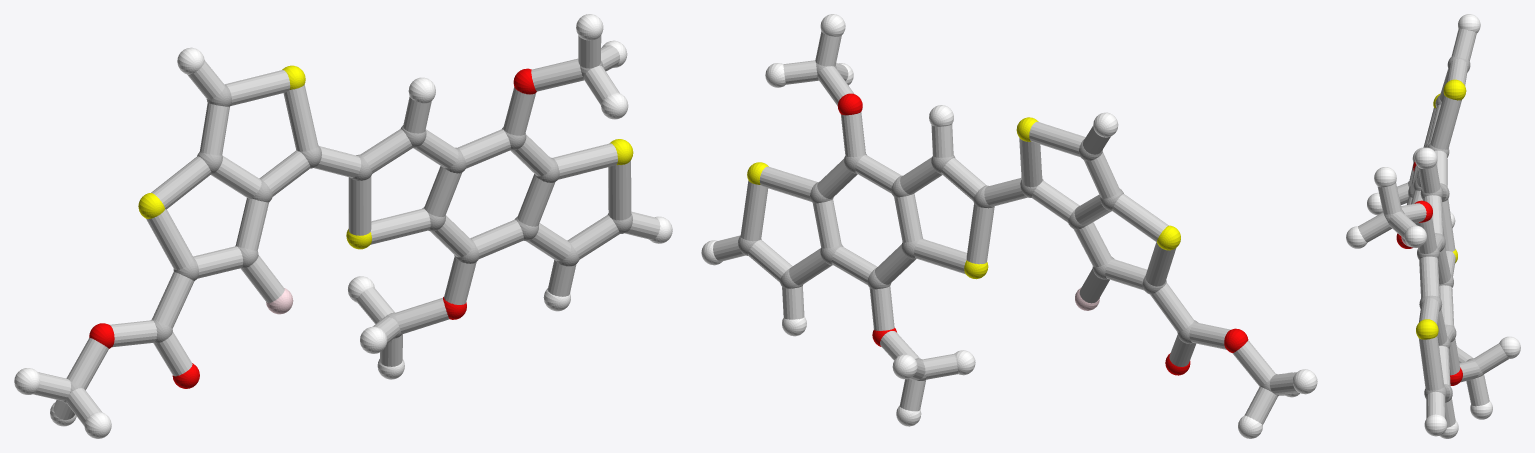
Rendered from color.glb.
The picture shows the model from 3 angles, left to right: view 1: azimuth 30°, elevation 25°; view 2: azimuth 150°, elevation 25°; view 3: azimuth 270°, elevation 25°; orthographic projection. The views are drawn at different scales.
Parts seen in each view (by area): view 1: grp15205, grp8689, grp1, grp13395, grp7241; view 2: grp15205, grp8689, grp1, grp7241, grp13395; view 3: grp15205, grp8689, grp1, grp7241, grp13395.
Part boxes in pixels (<box>): grp15205: <box>33,35,660,425</box>; grp8689: <box>14,14,672,438</box>; grp1: <box>63,60,632,403</box>; grp13395: <box>89,68,536,388</box>; grp7241: <box>138,65,633,249</box>; grp15205: <box>713,31,1298,424</box>; grp8689: <box>701,14,1317,438</box>; grp1: <box>738,63,1279,395</box>; grp7241: <box>747,117,1180,279</box>; grp13395: <box>837,93,1248,375</box>; grp15205: <box>1358,28,1508,427</box>; grp8689: <box>1346,14,1520,438</box>; grp1: <box>1384,56,1483,402</box>; grp7241: <box>1416,79,1466,339</box>; grp13395: <box>1396,162,1462,385</box>.
Bounding box in the file's own units: 16.73 × 9.31 × 4.61.
